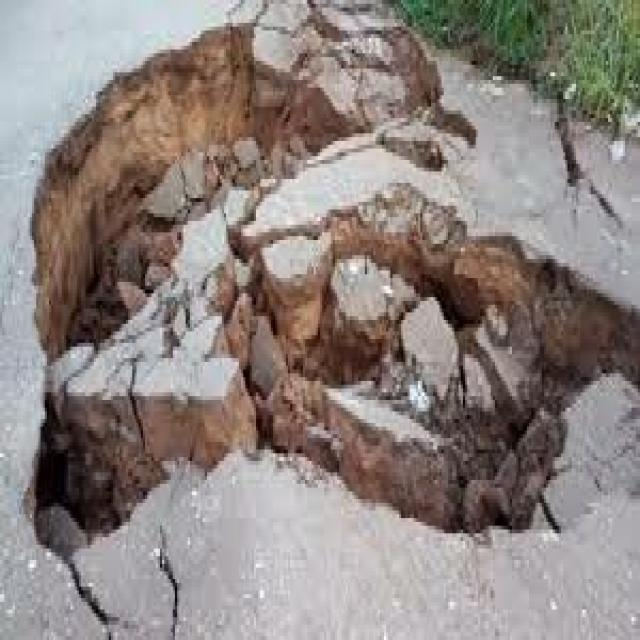Buraco: (22, 0, 640, 631)
